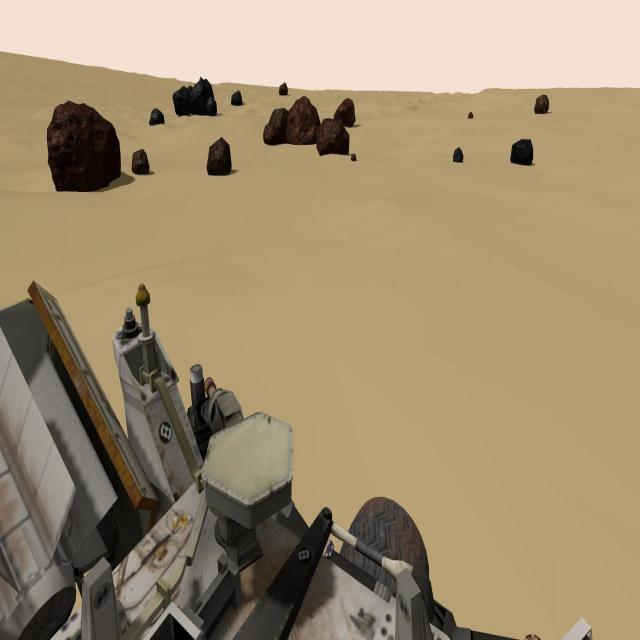rock: (47, 101, 121, 191), (286, 95, 321, 144), (316, 118, 350, 155), (206, 136, 232, 176), (192, 76, 214, 114), (268, 107, 288, 142), (333, 97, 355, 128), (511, 138, 534, 166), (173, 86, 191, 116), (131, 149, 149, 175), (264, 120, 280, 146), (534, 94, 548, 115), (150, 108, 164, 127), (231, 89, 242, 106), (453, 147, 463, 163), (208, 96, 216, 115), (278, 80, 288, 95), (351, 154, 357, 162), (186, 84, 193, 90), (468, 111, 473, 118)
